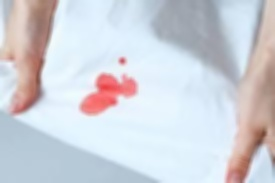blood: (80, 73, 138, 115), (119, 57, 127, 65)
